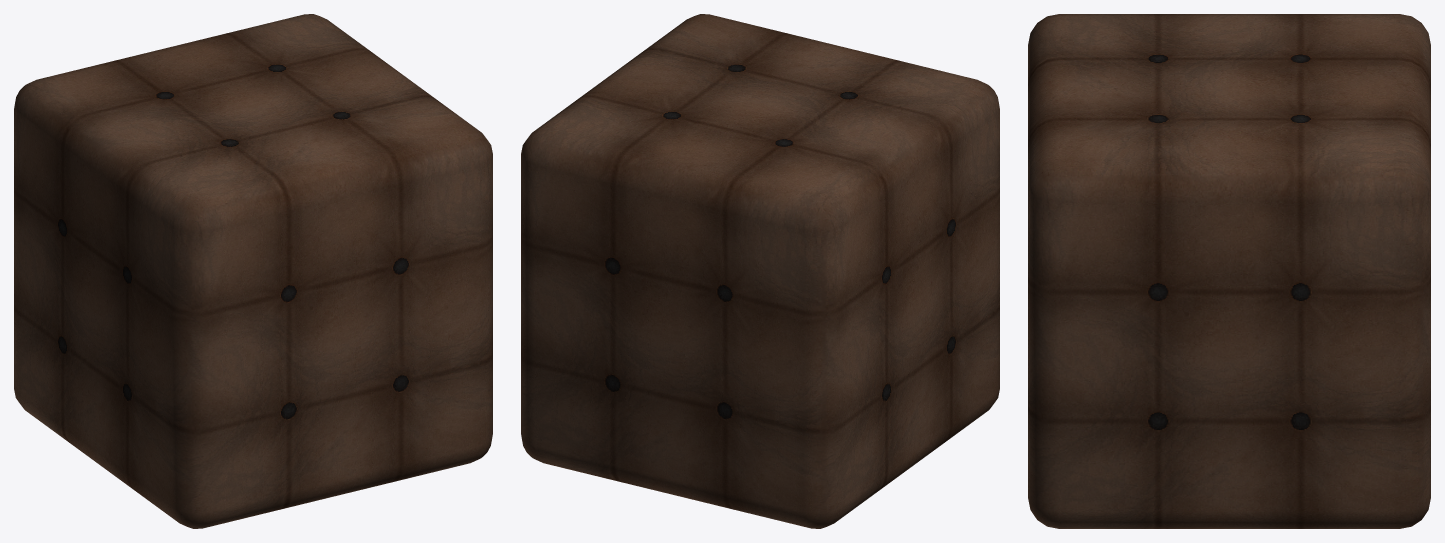
Rendered from OttomanRetro01.FBX.
3 renders of one model, left to right at view 1: azimuth 30°, elevation 25°; view 2: azimuth 150°, elevation 25°; view 3: azimuth 270°, elevation 25°, orthographic. The views are drawn at different scales.
Parts seen in each view (by area): view 1: OttomanRetro01; view 2: OttomanRetro01; view 3: OttomanRetro01.
Boxes of the visible parts, box(x1,y1,x2,y2) form: OttomanRetro01: box(14, 14, 492, 528); OttomanRetro01: box(521, 14, 999, 528); OttomanRetro01: box(1028, 14, 1430, 528).
Bounding box in the file's own units: 600 × 600 × 600.
